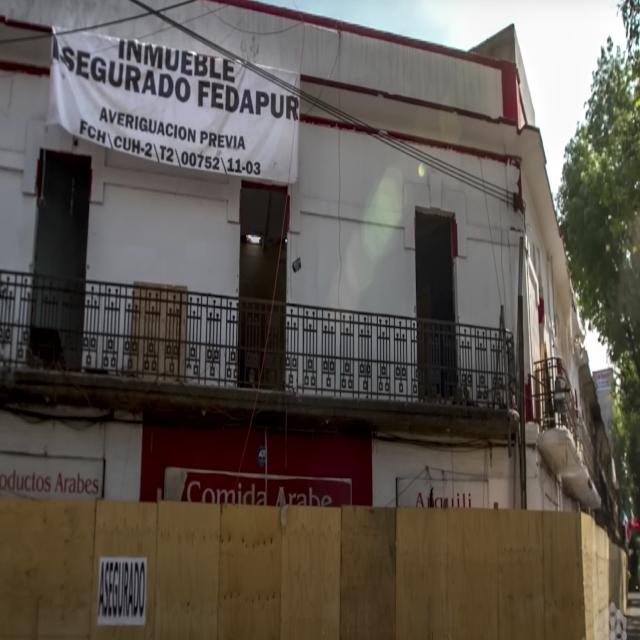stamps: (50, 32, 299, 183), (97, 559, 146, 624), (593, 370, 612, 392)
